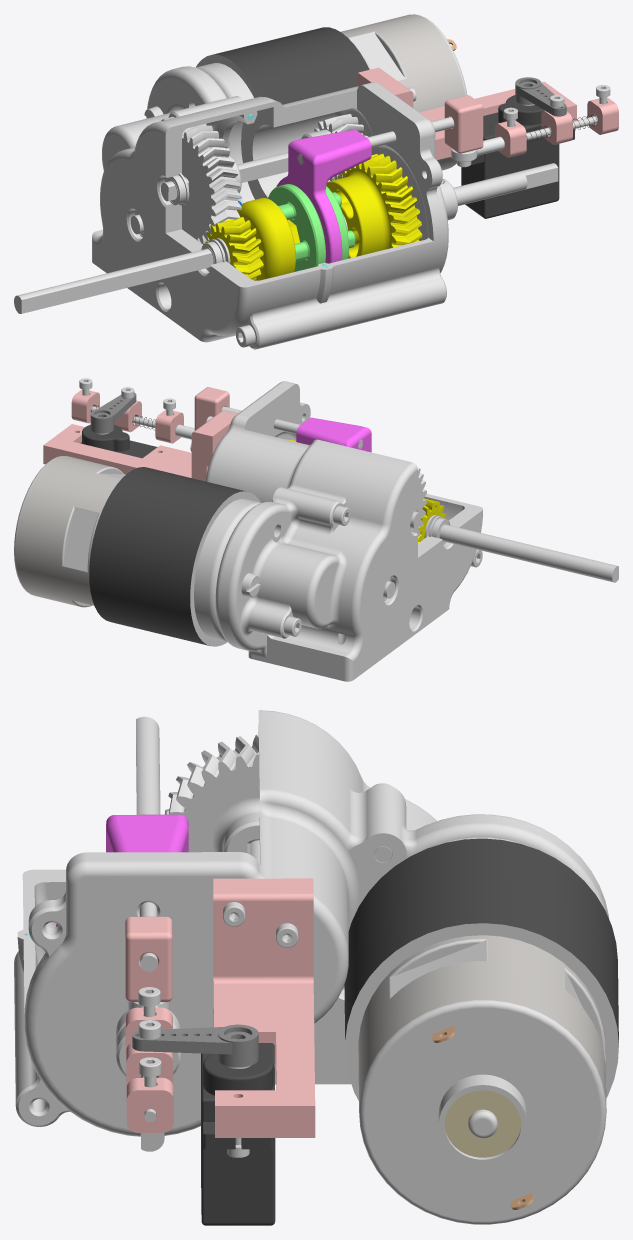
File: gearbox_for_3d_print.glb
The picture shows the model from 3 angles, top to bottom: view 1: azimuth 30°, elevation 25°; view 2: azimuth 150°, elevation 25°; view 3: azimuth 270°, elevation 25°; orthographic projection. The views are drawn at different scales.
Visible parts, largest first — view 1: Object_22, Object_29, Object_17, Object_10, Object_9, Object_33, Object_4, Object_26, Object_15, Object_32, Object_8, Object_13 (+6 smaller); view 2: Object_22, Object_17, Object_29, Object_10, Object_4, Object_9, Object_15, Object_11, Object_6, Object_13, Object_26, Object_32; view 3: Object_29, Object_10, Object_17, Object_9, Object_4, Object_22, Object_26, Object_6, Object_7, Object_15, Object_12.
Part boxes in pixels (bbox=[...]): Object_22: bbox=[92, 102, 329, 349]; Object_29: bbox=[146, 66, 448, 331]; Object_17: bbox=[213, 27, 574, 218]; Object_10: bbox=[14, 14, 606, 313]; Object_9: bbox=[358, 67, 618, 159]; Object_33: bbox=[326, 153, 422, 258]; Object_4: bbox=[340, 14, 465, 170]; Object_26: bbox=[182, 109, 349, 244]; Object_15: bbox=[276, 129, 371, 263]; Object_32: bbox=[205, 198, 295, 280]; Object_8: bbox=[268, 184, 355, 271]; Object_13: bbox=[161, 117, 454, 347]; Object_22: bbox=[249, 445, 482, 681]; Object_17: bbox=[80, 424, 246, 645]; Object_29: bbox=[205, 381, 339, 663]; Object_10: bbox=[14, 387, 618, 646]; Object_4: bbox=[15, 456, 120, 606]; Object_9: bbox=[43, 387, 236, 481]; Object_15: bbox=[296, 417, 371, 452]; Object_11: bbox=[241, 505, 450, 597]; Object_6: bbox=[90, 392, 136, 433]; Object_13: bbox=[221, 406, 482, 636]; Object_26: bbox=[338, 465, 426, 644]; Object_32: bbox=[418, 498, 446, 542]; Object_29: bbox=[14, 771, 608, 1136]; Object_10: bbox=[136, 716, 618, 1224]; Object_17: bbox=[201, 838, 618, 1225]; Object_9: bbox=[125, 878, 315, 1137]; Object_4: bbox=[358, 935, 606, 1111]; Object_22: bbox=[14, 710, 436, 1014]; Object_26: bbox=[164, 734, 259, 854]; Object_6: bbox=[132, 1024, 258, 1067]; Object_7: bbox=[444, 1090, 521, 1157]; Object_15: bbox=[56, 814, 188, 926]; Object_12: bbox=[138, 846, 391, 1157].
Bounding box in the file's own units: 0.182 × 0.0545 × 0.1027.
